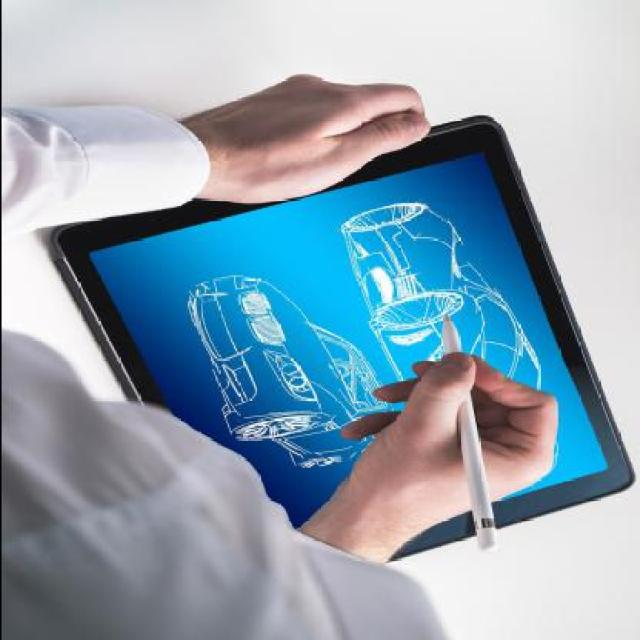tablet: (47, 114, 625, 535)
